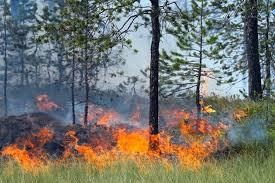fire: (47, 90, 233, 167), (34, 92, 59, 110)
